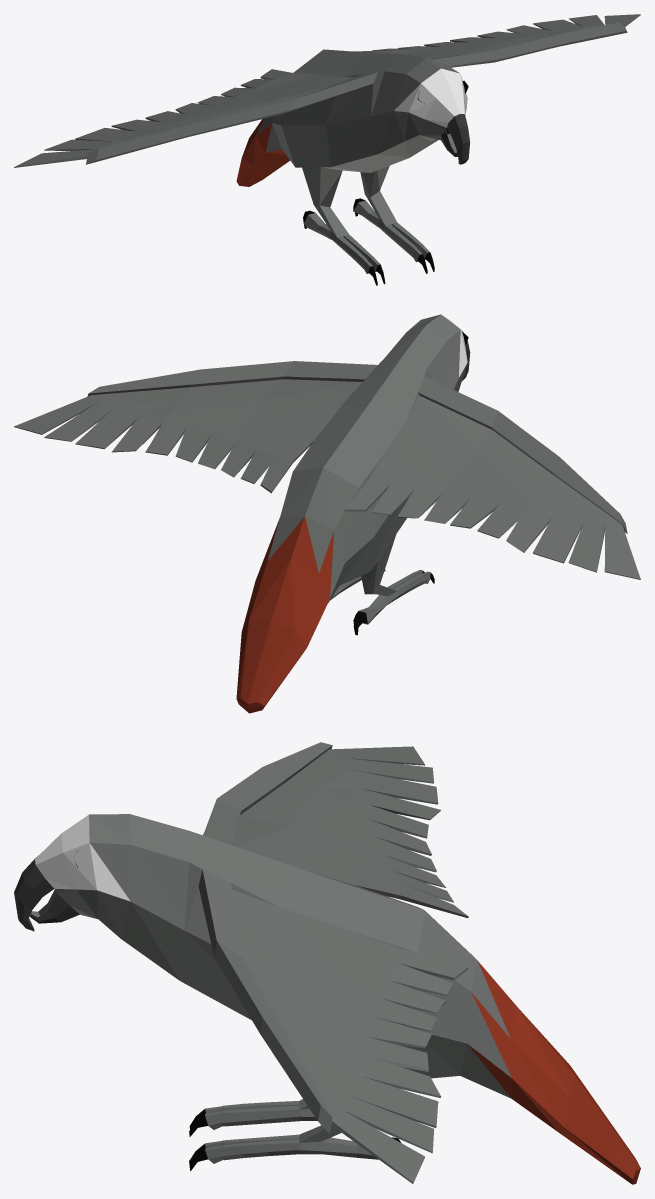
File: 24birdFinal.fbx
3 views of the same model, one above another, from view 1: azimuth 30°, elevation 25°; view 2: azimuth 150°, elevation 25°; view 3: azimuth 270°, elevation 25° (orthographic). The views are drawn at different scales.
Parts seen in each view (by area): view 1: 24birdFinal; view 2: 24birdFinal; view 3: 24birdFinal.
Part boxes in pixels (x1,y1,x2,y2): 24birdFinal: (14,14,640,285); 24birdFinal: (14,314,640,713); 24birdFinal: (14,742,640,1184).
Size of the model in its own units: 60.63 by 23.94 by 36.79.
